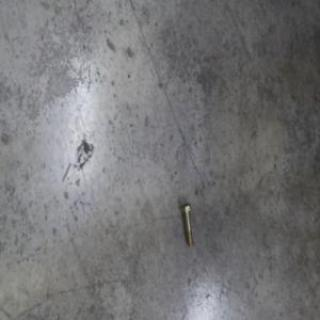Bolttrack_idkeyframe: (178, 200, 192, 248)
